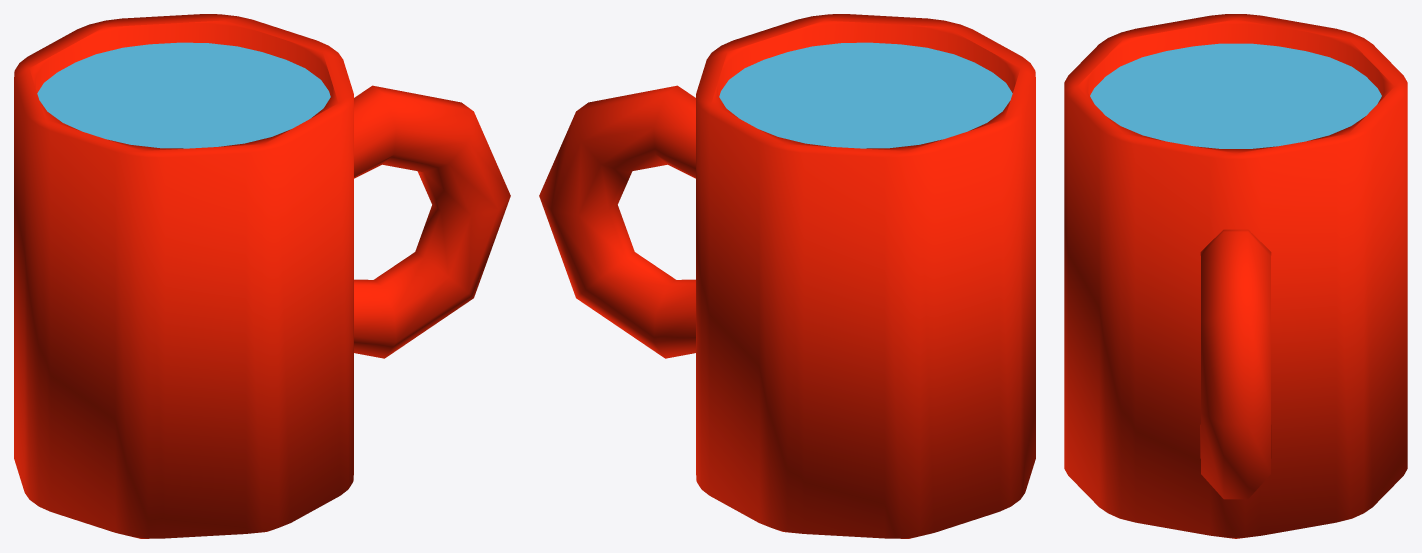
File: TazaLlena.fbx
3 renders of one model, left to right at view 1: azimuth 30°, elevation 25°; view 2: azimuth 150°, elevation 25°; view 3: azimuth 270°, elevation 25°, orthographic.
Parts seen in each view (by area): view 1: sercups mug.001, Cilindro; view 2: sercups mug.001, Cilindro; view 3: sercups mug.001, Cilindro.
Part boxes in pixels (left/top/right/bottom): sercups mug.001: left=14, top=14, right=510, bottom=538; Cilindro: left=37, top=42, right=330, bottom=148; sercups mug.001: left=539, top=14, right=1035, bottom=538; Cilindro: left=719, top=42, right=1012, bottom=148; sercups mug.001: left=1064, top=14, right=1407, bottom=538; Cilindro: left=1090, top=43, right=1381, bottom=148.
Bounding box in the file's own units: 60.48 × 47.36 × 38.49.
